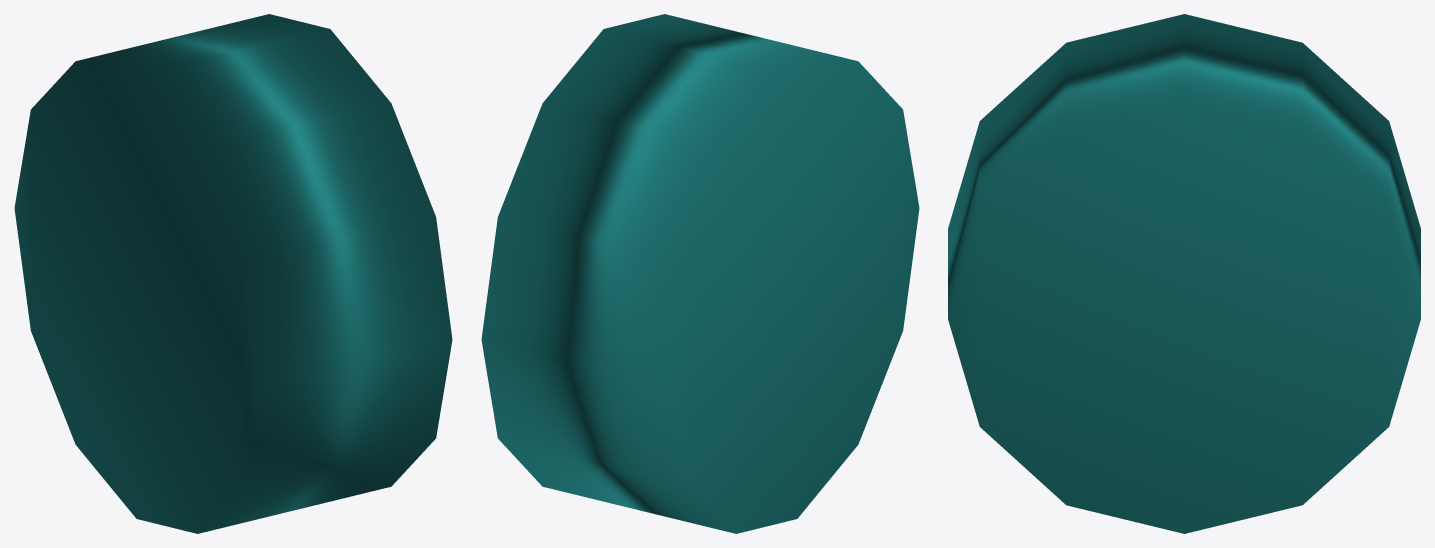
File: wheel_roller_collider.fbx
The picture shows the model from 3 angles, left to right: view 1: azimuth 30°, elevation 25°; view 2: azimuth 150°, elevation 25°; view 3: azimuth 270°, elevation 25°; orthographic projection. The views are drawn at different scales.
Parts seen in each view (by area): view 1: wheel_roller_collider; view 2: wheel_roller_collider; view 3: wheel_roller_collider.
Part boxes in pixels (x1,y1,x2,y2): wheel_roller_collider: (14, 14, 452, 533); wheel_roller_collider: (481, 14, 919, 533); wheel_roller_collider: (948, 14, 1420, 533).
Bounding box in the file's own units: 9.68 × 21.12 × 21.12.
